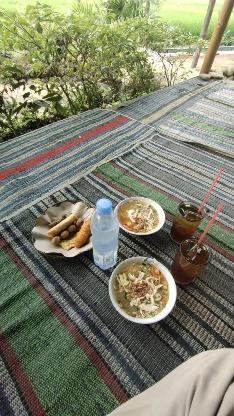Plastic Bottle: (90, 196, 118, 272)
